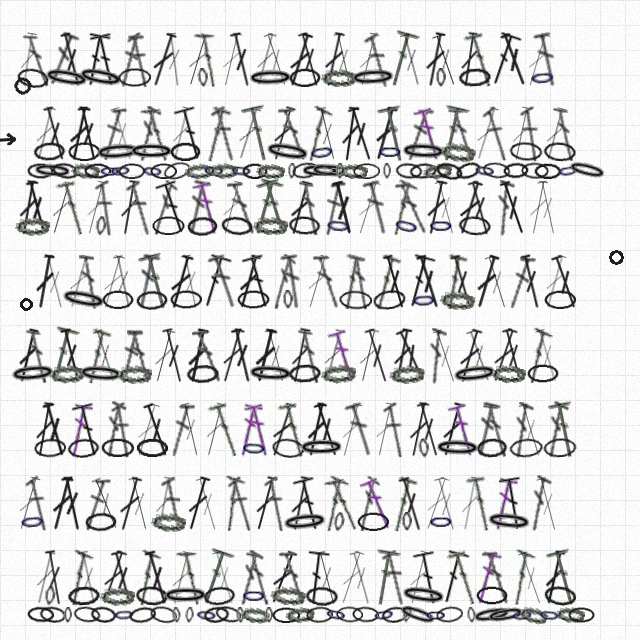chain: (76, 64, 125, 91), (59, 286, 108, 313), (42, 65, 91, 91), (263, 139, 312, 165), (399, 583, 448, 608), (396, 601, 439, 629), (451, 362, 499, 386), (281, 510, 329, 534), (9, 362, 57, 385), (485, 510, 533, 533), (94, 141, 142, 163), (77, 363, 125, 385), (566, 158, 608, 183), (349, 67, 397, 88), (400, 141, 447, 162), (247, 363, 294, 384), (247, 68, 294, 88), (434, 438, 481, 458), (471, 604, 513, 626), (485, 604, 527, 626), (128, 142, 175, 161), (298, 438, 345, 457), (162, 586, 209, 605), (320, 362, 357, 385), (16, 66, 50, 90), (372, 288, 407, 311), (440, 141, 476, 163), (389, 363, 425, 385), (543, 584, 577, 607), (49, 363, 85, 384), (270, 585, 306, 606), (220, 215, 254, 237), (271, 437, 305, 459), (509, 437, 543, 459), (32, 162, 73, 180), (67, 437, 100, 459), (203, 585, 236, 607), (310, 162, 350, 180), (509, 141, 543, 162), (543, 437, 577, 458), (15, 216, 50, 236), (440, 290, 475, 310), (117, 364, 152, 384), (151, 512, 186, 532), (100, 586, 135, 606), (392, 214, 421, 238), (458, 67, 491, 88), (33, 141, 66, 162), (543, 141, 576, 162), (288, 215, 321, 236), (458, 215, 491, 236), (288, 363, 321, 384), (67, 585, 100, 606), (135, 585, 168, 606), (162, 159, 192, 182), (518, 604, 549, 626), (476, 437, 508, 458), (454, 159, 483, 182), (321, 68, 356, 87), (253, 216, 288, 235), (491, 364, 526, 383), (434, 160, 464, 182), (339, 290, 372, 310), (186, 364, 219, 384), (305, 586, 338, 606), (300, 163, 340, 179), (136, 290, 168, 310), (34, 438, 66, 458), (85, 512, 117, 532), (118, 68, 151, 87), (152, 216, 185, 235), (237, 290, 270, 309), (101, 438, 134, 457), (422, 161, 453, 181), (187, 216, 218, 236), (308, 141, 336, 163), (149, 604, 178, 625), (214, 604, 243, 625), (289, 68, 321, 87), (68, 142, 100, 161), (102, 290, 134, 309), (170, 290, 202, 309), (544, 290, 576, 309), (527, 364, 559, 383), (136, 438, 168, 457), (357, 512, 389, 531), (476, 586, 508, 605), (170, 142, 201, 161), (51, 161, 80, 181), (128, 605, 157, 625), (285, 605, 315, 624), (529, 67, 556, 88), (325, 215, 352, 236), (19, 511, 46, 532), (291, 161, 320, 180), (482, 161, 511, 180), (435, 605, 464, 624), (184, 162, 214, 180), (240, 606, 270, 624), (39, 605, 67, 624), (73, 605, 101, 624), (381, 605, 409, 624), (411, 290, 437, 310), (241, 438, 267, 458), (90, 605, 117, 624), (203, 605, 230, 624), (395, 162, 423, 180), (409, 162, 437, 180), (377, 142, 403, 161), (428, 216, 454, 235), (428, 512, 454, 531), (241, 586, 267, 605), (71, 162, 100, 179), (209, 162, 238, 179), (556, 606, 585, 623), (521, 162, 549, 179), (256, 163, 285, 179), (339, 163, 368, 179), (27, 606, 54, 623), (306, 606, 333, 623), (336, 606, 363, 623), (352, 606, 379, 623), (473, 161, 497, 180), (556, 161, 580, 180), (324, 605, 348, 624), (372, 605, 396, 624), (272, 607, 300, 623), (503, 162, 529, 179), (27, 163, 54, 179), (84, 163, 111, 179), (118, 163, 145, 179), (150, 163, 177, 179), (353, 163, 380, 179), (534, 163, 561, 179), (568, 607, 595, 623), (242, 163, 268, 179), (141, 162, 164, 180), (195, 606, 218, 624), (511, 606, 534, 624), (538, 606, 561, 624), (109, 162, 132, 179), (230, 162, 253, 179), (203, 162, 225, 179), (113, 606, 135, 623), (99, 163, 121, 179), (425, 607, 447, 623), (95, 216, 107, 236), (418, 438, 430, 458), (333, 512, 345, 532), (44, 586, 56, 606), (197, 68, 209, 87), (436, 68, 446, 87), (283, 290, 293, 309), (402, 512, 412, 531), (402, 606, 412, 623), (172, 607, 181, 623), (185, 607, 194, 623), (236, 607, 245, 623), (467, 607, 476, 623), (288, 163, 296, 179), (336, 163, 344, 179), (383, 163, 391, 179), (64, 607, 72, 623), (265, 607, 273, 623)
double: (195, 548, 235, 607), (484, 30, 523, 89), (154, 178, 193, 237), (256, 178, 295, 237), (324, 475, 363, 533), (392, 327, 431, 384), (383, 30, 420, 89), (247, 178, 284, 237), (138, 252, 175, 311), (196, 252, 233, 311), (546, 548, 583, 607), (173, 104, 209, 163), (241, 252, 277, 311), (401, 252, 437, 311), (44, 326, 80, 385), (435, 548, 471, 607), (87, 475, 124, 532), (359, 475, 396, 532), (547, 253, 583, 311), (513, 549, 549, 607), (241, 104, 276, 163), (44, 31, 80, 88), (496, 31, 532, 88), (265, 549, 301, 606), (146, 31, 181, 89), (428, 31, 463, 89), (377, 105, 412, 163), (435, 105, 470, 163), (367, 253, 402, 311), (428, 327, 463, 385), (71, 401, 106, 459), (139, 401, 174, 459), (207, 401, 242, 459), (265, 401, 300, 459), (292, 475, 327, 533), (496, 179, 531, 236), (207, 253, 242, 310), (462, 327, 497, 384), (89, 31, 123, 89), (283, 31, 317, 89), (140, 105, 174, 163), (198, 105, 232, 163), (300, 105, 334, 163), (344, 105, 378, 163), (351, 179, 385, 237), (385, 179, 419, 237), (453, 179, 487, 237), (480, 253, 514, 311), (130, 401, 164, 459), (514, 401, 548, 459), (548, 401, 582, 459), (446, 549, 480, 607), (259, 31, 293, 88), (487, 327, 521, 384), (310, 401, 344, 458), (344, 401, 378, 458), (419, 475, 453, 532), (96, 549, 130, 606), (334, 549, 368, 606), (79, 31, 112, 89), (463, 31, 496, 89), (521, 31, 554, 89), (45, 179, 78, 237), (55, 179, 88, 237), (96, 253, 129, 311), (164, 253, 197, 311), (446, 253, 479, 311), (79, 327, 112, 385), (453, 327, 486, 385), (521, 327, 554, 385), (113, 475, 146, 533), (191, 475, 224, 533), (385, 475, 418, 533), (395, 475, 428, 533), (412, 549, 445, 607), (395, 180, 429, 236), (181, 31, 214, 88), (106, 105, 139, 162), (232, 105, 265, 162), (470, 105, 503, 162), (412, 253, 445, 310), (470, 253, 503, 310), (89, 327, 122, 384), (327, 327, 360, 384), (361, 327, 394, 384), (531, 327, 564, 384), (208, 549, 241, 606), (539, 105, 571, 163), (284, 179, 316, 237), (464, 179, 496, 237), (148, 327, 180, 385), (335, 401, 367, 459), (318, 475, 350, 533), (430, 475, 462, 533), (532, 475, 564, 533), (107, 549, 139, 607), (165, 549, 197, 607), (345, 549, 377, 607), (369, 549, 401, 607), (39, 105, 71, 162), (267, 105, 299, 162), (369, 105, 401, 162), (413, 105, 445, 162), (63, 253, 95, 310), (233, 253, 265, 310), (301, 253, 333, 310), (379, 253, 411, 310), (539, 253, 571, 310), (216, 327, 248, 384), (39, 401, 71, 458), (413, 401, 445, 458), (447, 401, 479, 458), (12, 475, 44, 532), (182, 475, 214, 532), (141, 549, 173, 606), (277, 401, 308, 459), (63, 549, 94, 607), (131, 549, 162, 607), (56, 31, 87, 88), (216, 31, 247, 88), (226, 31, 257, 88), (250, 31, 281, 88), (294, 31, 325, 88), (396, 31, 427, 88), (22, 179, 53, 236), (80, 179, 111, 236), (192, 179, 223, 236), (216, 179, 247, 236), (328, 179, 359, 236), (362, 179, 393, 236), (430, 179, 461, 236), (39, 253, 70, 310), (335, 253, 366, 310), (56, 327, 87, 384), (158, 327, 189, 384), (250, 327, 281, 384), (260, 327, 291, 384), (318, 327, 349, 384), (498, 327, 529, 384), (199, 401, 230, 458), (437, 401, 468, 458), (46, 475, 77, 532), (124, 475, 155, 532), (250, 475, 281, 532), (498, 475, 529, 532), (311, 549, 342, 606), (403, 549, 434, 606), (471, 549, 502, 606), (403, 106, 434, 162), (481, 106, 512, 162), (148, 180, 179, 236), (505, 254, 536, 310), (192, 328, 223, 384), (226, 476, 257, 532), (233, 550, 264, 606), (319, 31, 349, 88), (353, 31, 383, 88), (30, 105, 60, 162), (64, 105, 94, 162), (166, 105, 196, 162), (312, 105, 342, 162), (421, 179, 451, 236), (108, 253, 138, 310), (438, 253, 468, 310), (516, 253, 546, 310), (13, 327, 43, 384), (183, 327, 213, 384), (227, 327, 257, 384), (353, 327, 383, 384), (244, 401, 274, 458), (370, 401, 400, 458), (57, 475, 87, 532), (30, 549, 60, 606), (176, 549, 206, 606), (506, 549, 536, 606), (363, 32, 393, 88), (132, 106, 162, 162), (278, 106, 308, 162), (125, 180, 155, 236), (227, 180, 257, 236), (81, 476, 111, 532), (329, 31, 358, 88), (421, 31, 450, 88), (533, 31, 562, 88), (74, 105, 103, 162), (210, 105, 239, 162), (183, 179, 212, 236), (533, 179, 562, 236), (176, 253, 205, 310), (176, 401, 205, 458), (234, 401, 263, 458), (302, 401, 331, 458), (404, 401, 433, 458), (472, 401, 501, 458), (465, 475, 494, 532), (489, 475, 518, 532), (74, 549, 103, 606), (302, 549, 331, 606), (482, 549, 511, 606), (540, 549, 569, 606), (23, 32, 52, 88), (448, 106, 477, 162), (268, 254, 297, 310), (194, 31, 222, 88), (99, 105, 127, 162), (507, 105, 535, 162), (14, 179, 42, 236), (524, 179, 552, 236), (31, 253, 59, 310), (133, 253, 161, 310), (313, 253, 341, 310), (286, 327, 314, 384), (388, 327, 416, 384), (65, 401, 93, 458), (99, 401, 127, 458), (167, 401, 195, 458), (541, 401, 569, 458), (24, 475, 52, 532), (150, 475, 178, 532), (218, 475, 246, 532), (286, 475, 314, 532), (456, 475, 484, 532), (524, 475, 552, 532), (381, 549, 409, 606), (116, 32, 144, 88), (279, 550, 307, 606), (116, 179, 143, 236), (31, 401, 58, 458), (41, 549, 68, 606), (126, 32, 153, 88), (483, 402, 510, 458), (160, 476, 187, 532), (354, 476, 381, 532), (15, 31, 41, 88), (161, 31, 187, 88), (280, 253, 306, 310), (117, 328, 143, 384), (382, 402, 408, 458), (508, 402, 534, 458), (263, 476, 289, 532), (246, 550, 272, 606), (457, 31, 482, 88), (338, 106, 363, 162), (321, 180, 346, 236), (127, 328, 152, 384), (110, 402, 135, 458), (519, 106, 543, 162), (553, 106, 577, 162), (26, 328, 50, 384), (298, 328, 322, 384), (94, 180, 117, 236), (492, 180, 515, 236), (424, 328, 447, 384), (299, 180, 321, 236), (350, 254, 371, 310), (79, 254, 99, 310)
noise: (12, 75, 34, 97), (607, 248, 625, 266), (18, 296, 34, 312), (0, 133, 18, 146)
